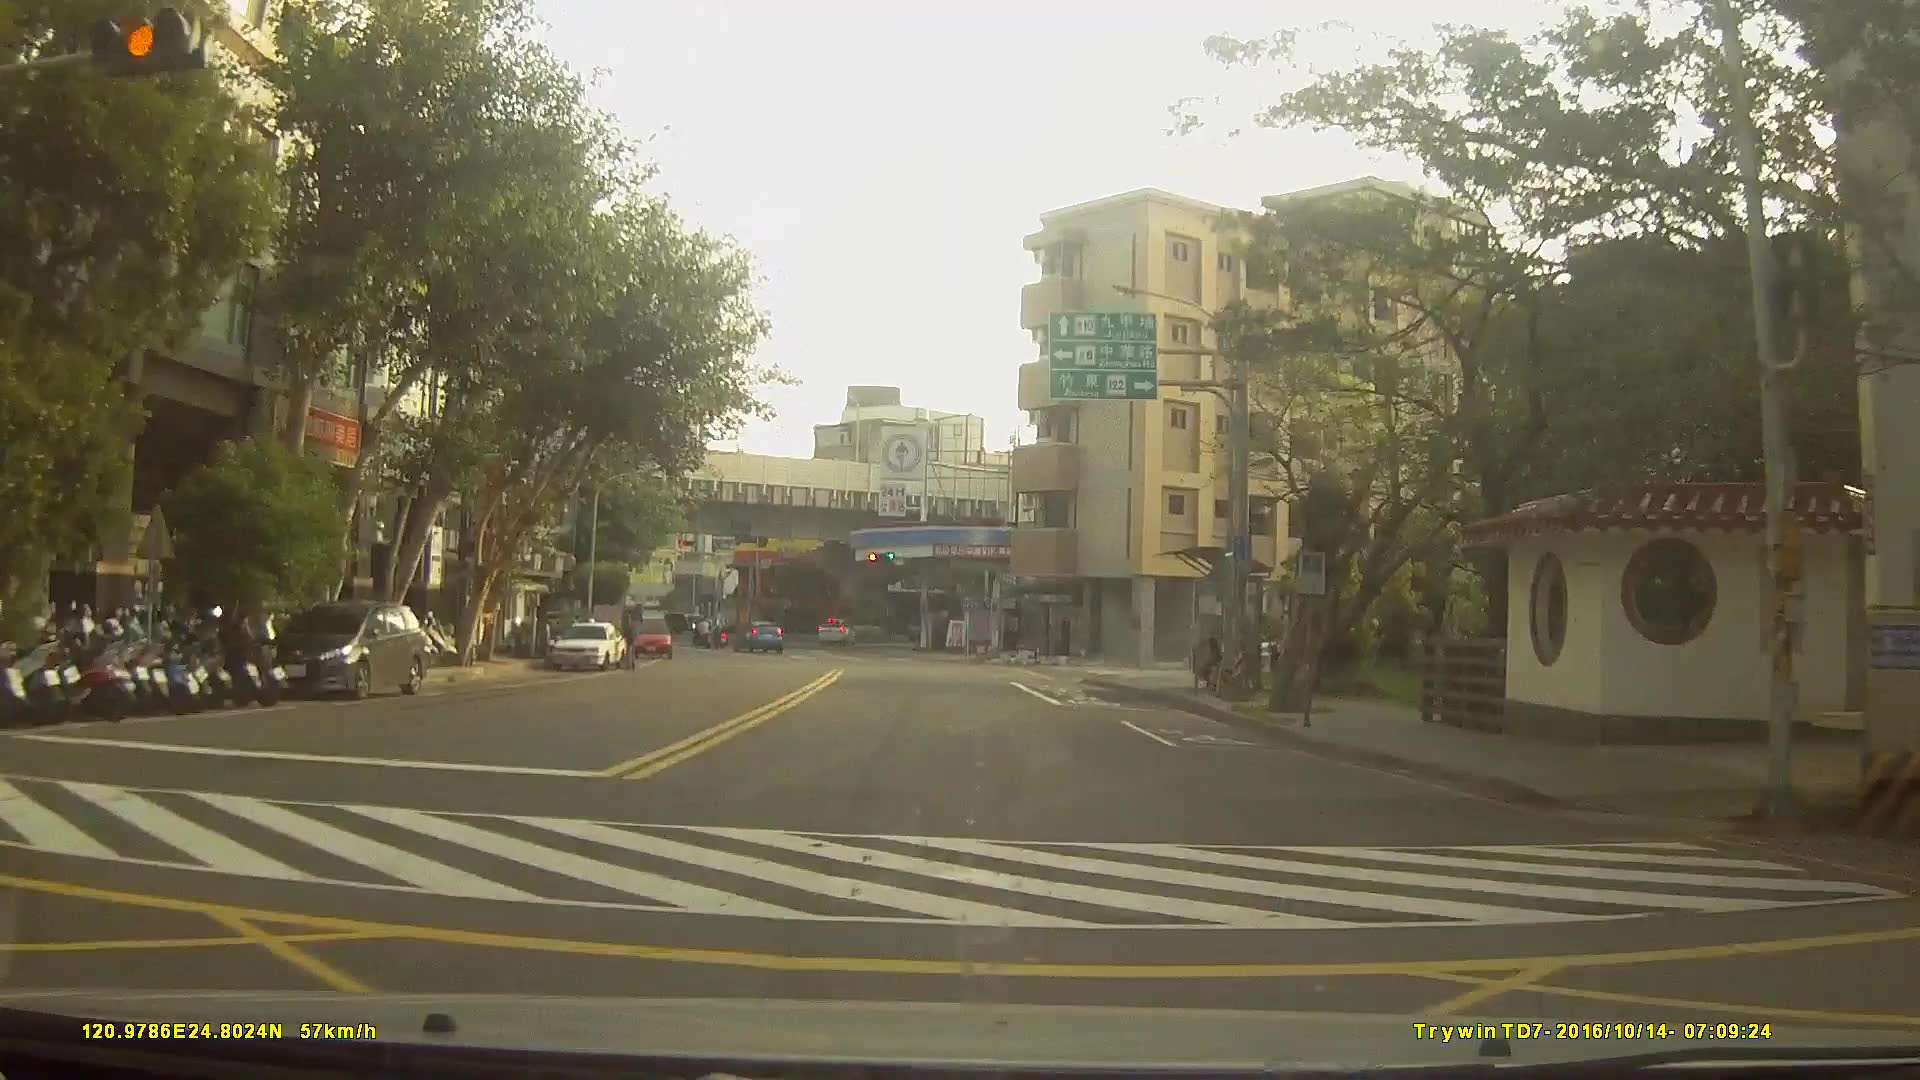rider: (690, 616, 714, 651)
vehicle: (264, 597, 428, 699), (548, 620, 628, 673), (629, 613, 672, 654), (730, 618, 784, 650), (816, 612, 856, 640)
